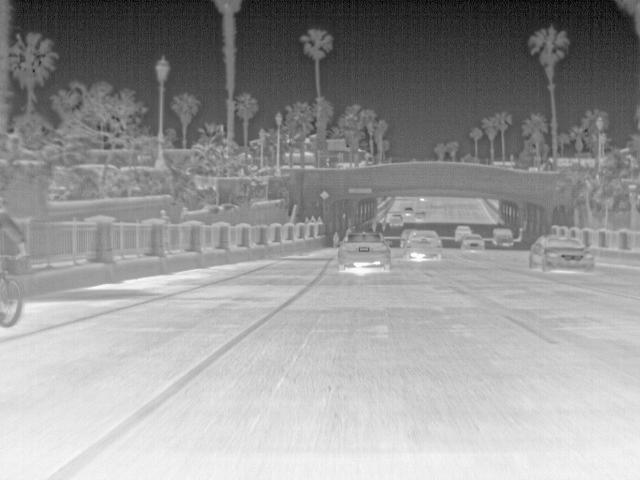car: (528, 235, 598, 273), (339, 232, 392, 273), (407, 228, 444, 260), (491, 227, 515, 247), (461, 234, 484, 253), (454, 223, 476, 242), (386, 211, 403, 228), (400, 204, 415, 218)
person: (1, 203, 24, 271), (158, 208, 173, 225)
